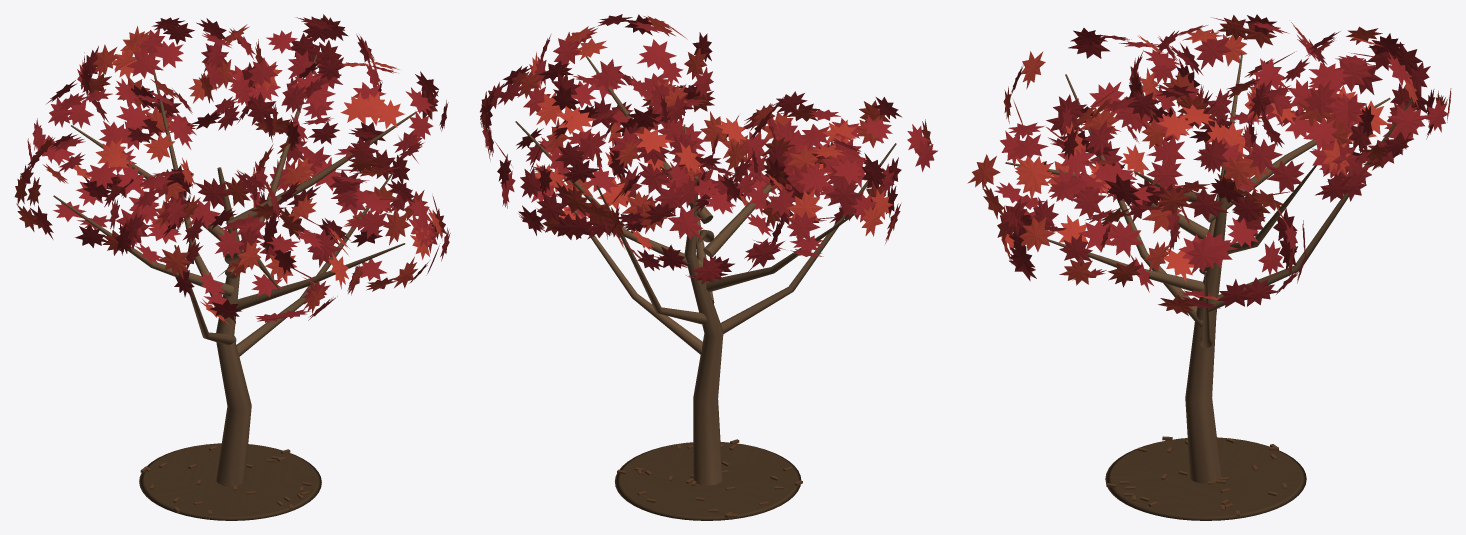
Rendered from JapaneseMaple.gltf.
The picture shows the model from 3 angles, left to right: view 1: azimuth 30°, elevation 25°; view 2: azimuth 150°, elevation 25°; view 3: azimuth 270°, elevation 25°; orthographic projection. The views are drawn at different scales.
Visible parts, largest first — view 1: JapaneseMaple__Canopy, JapaneseMaple__Body; view 2: JapaneseMaple__Canopy, JapaneseMaple__Body; view 3: JapaneseMaple__Canopy, JapaneseMaple__Body.
Boxes of the visible parts, x1,y1,x2,y2 form: JapaneseMaple__Canopy: (14,14,450,324); JapaneseMaple__Body: (53,53,415,520); JapaneseMaple__Canopy: (480,14,937,284); JapaneseMaple__Body: (515,55,896,520); JapaneseMaple__Canopy: (967,14,1451,315); JapaneseMaple__Body: (1005,53,1413,520).
Size of the model in its own units: 2.52 by 2.52 by 2.52.
1 material, 1 textured.
